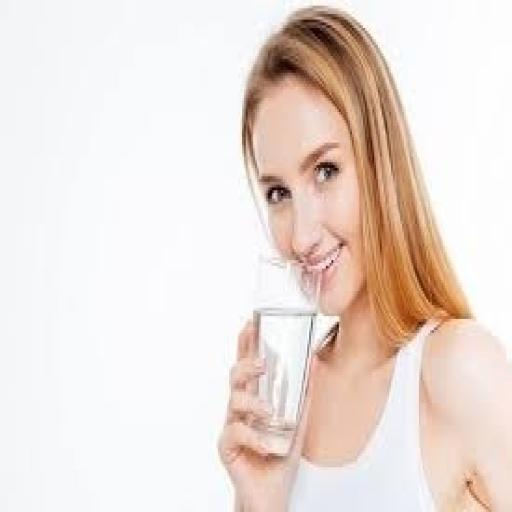drinking: (244, 252, 320, 456)
